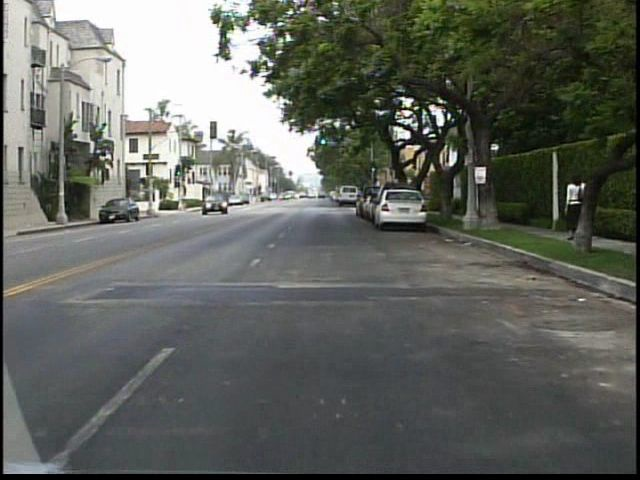person: (555, 166, 593, 251)
